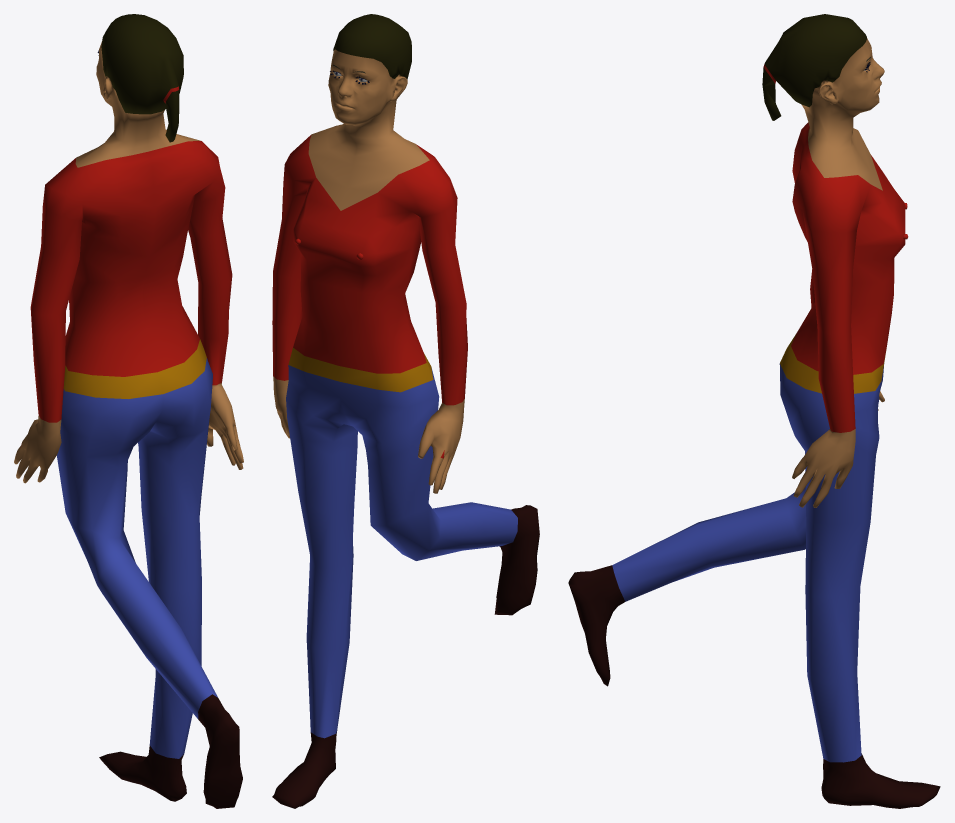
File: person_000007.obj
The picture shows the model from 3 angles, left to right: view 1: azimuth 30°, elevation 25°; view 2: azimuth 150°, elevation 25°; view 3: azimuth 270°, elevation 25°; orthographic projection. The views are drawn at different scales.
Visible parts, largest first — view 1: Cube; view 2: Cube; view 3: Cube.
Part boxes in pixels (x1=…): Cube: x1=14, y1=14, x2=243, y2=808; Cube: x1=272, y1=14, x2=539, y2=808; Cube: x1=568, y1=14, x2=940, y2=808.
Size of the model in its own units: 24.87 by 94.34 by 41.45.
